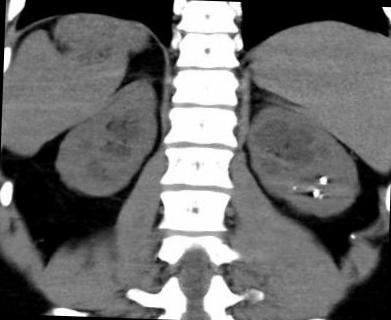Tas_Var: (318, 174, 329, 187), (311, 188, 321, 198), (290, 184, 298, 192), (320, 192, 326, 201)
